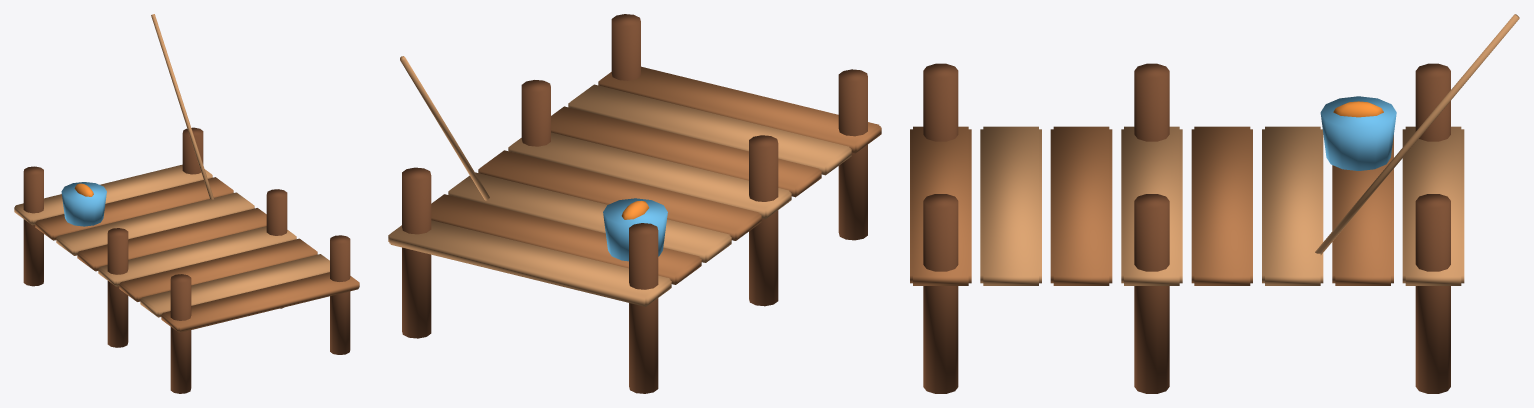
Rendered from FishingPierDock.fbx.
The picture shows the model from 3 angles, left to right: view 1: azimuth 30°, elevation 25°; view 2: azimuth 150°, elevation 25°; view 3: azimuth 270°, elevation 25°; orthographic projection. The views are drawn at different scales.
Visible parts, largest first — view 1: FishingPierDock; view 2: FishingPierDock; view 3: FishingPierDock.
Boxes of the visible parts, bbox=[...] form: FishingPierDock: bbox=[14, 14, 359, 393]; FishingPierDock: bbox=[388, 14, 881, 393]; FishingPierDock: bbox=[910, 14, 1519, 393].
Bounding box in the file's own units: 2.4 × 2.71 × 4.16.
